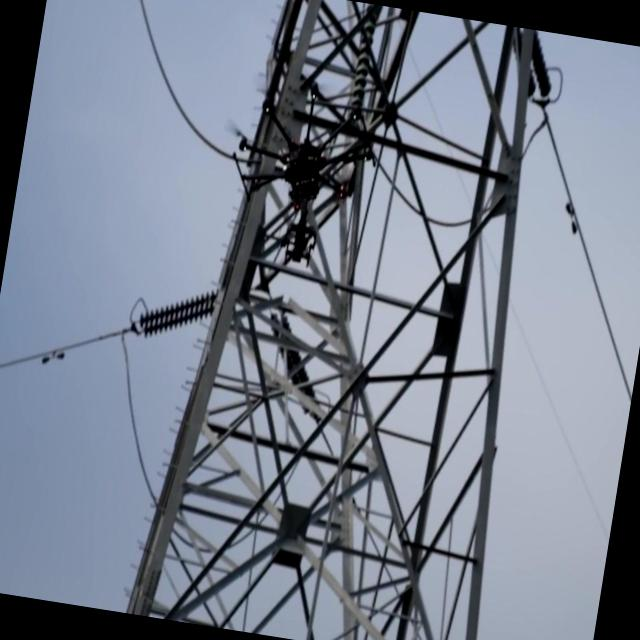drone: (222, 65, 390, 275)
